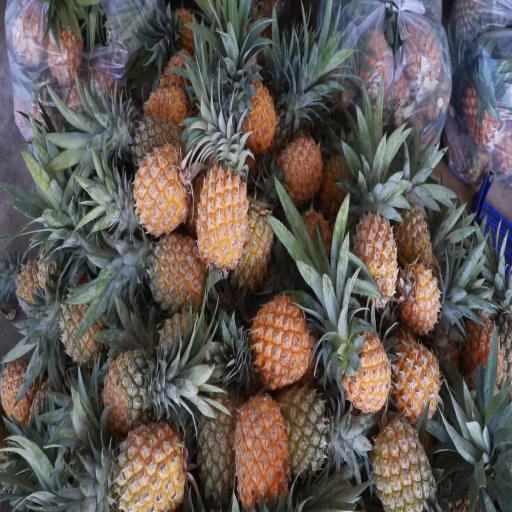------------------------------: (364, 403, 432, 512), (192, 369, 244, 511), (273, 386, 343, 482), (92, 346, 169, 432), (53, 272, 105, 368), (118, 102, 178, 162)
Pineapple - v8 v1: (106, 407, 187, 512), (230, 377, 289, 512), (244, 291, 310, 394), (195, 152, 247, 277), (137, 221, 208, 310), (350, 186, 400, 309), (127, 142, 190, 237), (337, 312, 394, 415), (385, 326, 443, 423), (226, 176, 273, 290), (269, 127, 324, 210), (387, 166, 432, 260), (388, 244, 439, 326), (236, 72, 278, 156)
